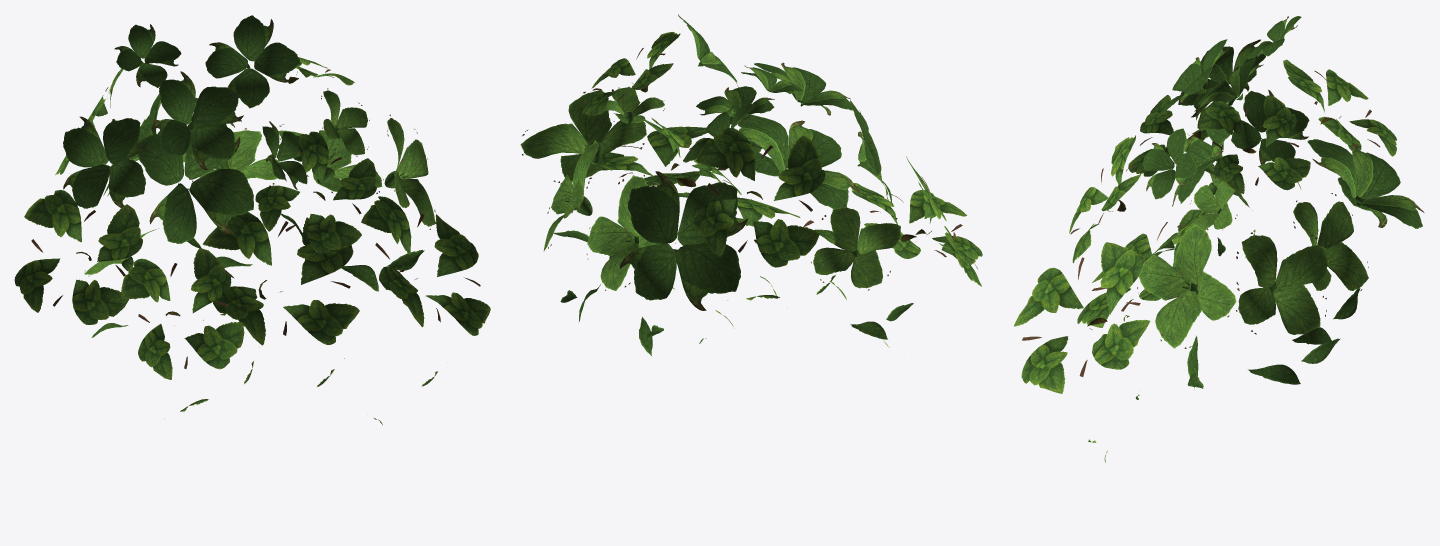
File: Purple_flower.obj
The picture shows the model from 3 angles, left to right: view 1: azimuth 30°, elevation 25°; view 2: azimuth 150°, elevation 25°; view 3: azimuth 270°, elevation 25°; orthographic projection. The views are drawn at different scales.
Visible parts, largest first — view 1: node_id6; view 2: node_id6; view 3: node_id6.
Boxes of the visible parts, box(x1,y1,x2,y2) form: node_id6: box(14, 15, 490, 425); node_id6: box(520, 14, 982, 355); node_id6: box(1014, 16, 1424, 462).
Size of the model in its own units: 0.1954 by 0.2016 by 0.1658.
